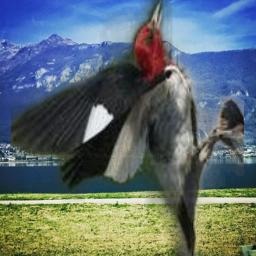Woodpecker: (11, 0, 244, 256)
